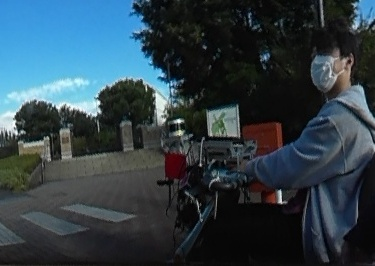person: (278, 21, 375, 266)
